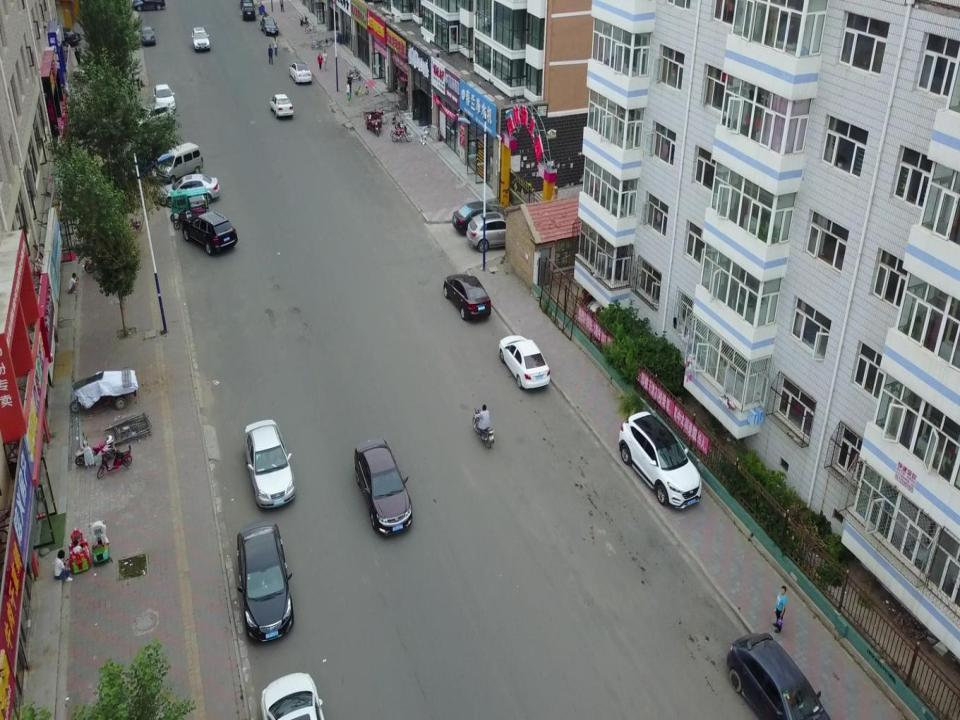car: (725, 630, 836, 720), (618, 412, 703, 505), (236, 521, 293, 643), (354, 437, 413, 536), (242, 419, 296, 510), (258, 670, 325, 720), (498, 334, 551, 392), (183, 213, 237, 255), (444, 272, 492, 319), (154, 142, 204, 182), (158, 172, 220, 204), (466, 213, 512, 253), (452, 204, 502, 234), (129, 102, 170, 131), (152, 84, 176, 113), (270, 94, 294, 118), (289, 61, 311, 84), (192, 26, 210, 52), (260, 16, 279, 37), (140, 26, 156, 46), (242, 2, 256, 21)
